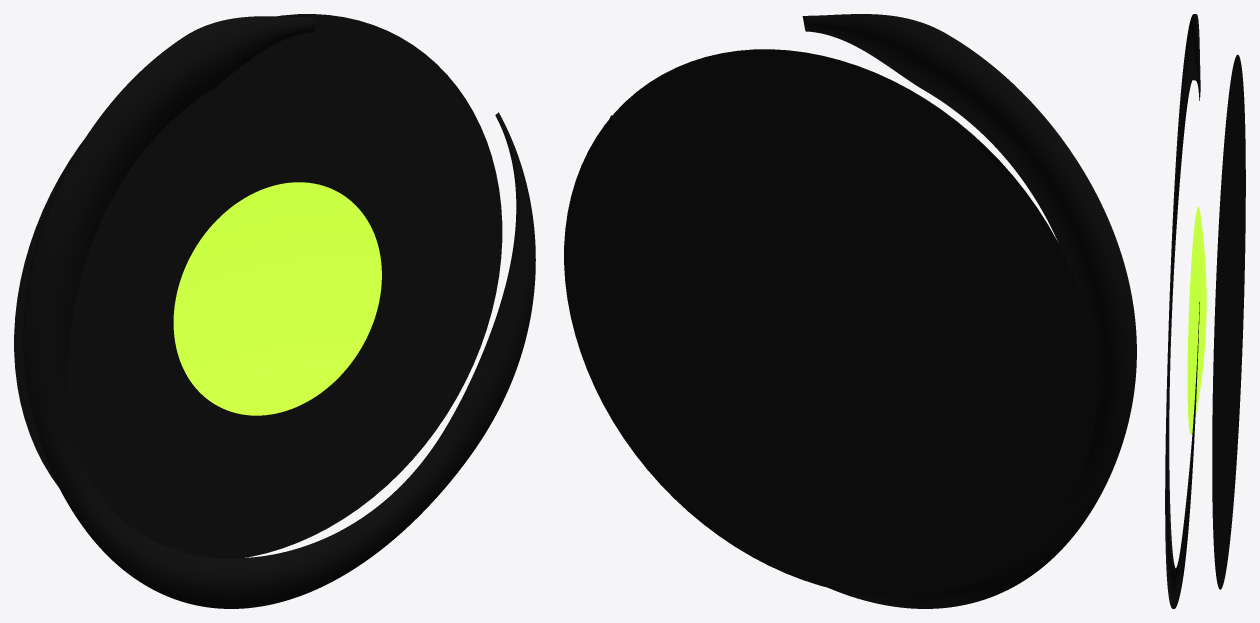
The picture shows the model from 3 angles, left to right: view 1: azimuth 30°, elevation 25°; view 2: azimuth 150°, elevation 25°; view 3: azimuth 270°, elevation 25°; orthographic projection. The views are drawn at different scales.
Visible parts, largest first — view 1: enso_backing, enso_stroke, enso_dish; view 2: enso_backing, enso_stroke; view 3: enso_backing, enso_stroke, enso_dish.
Boxes of the visible parts, x1,y1,x2,y2 form: enso_backing: (14,14,502,558); enso_stroke: (23,16,535,608); enso_dish: (173,182,381,415); enso_backing: (564,49,1096,596); enso_stroke: (609,14,1136,608); enso_backing: (1212,54,1245,589); enso_stroke: (1165,14,1200,608); enso_dish: (1187,207,1206,434).
Bounding box in the file's own units: 1.63 × 1.73 × 0.2351.
